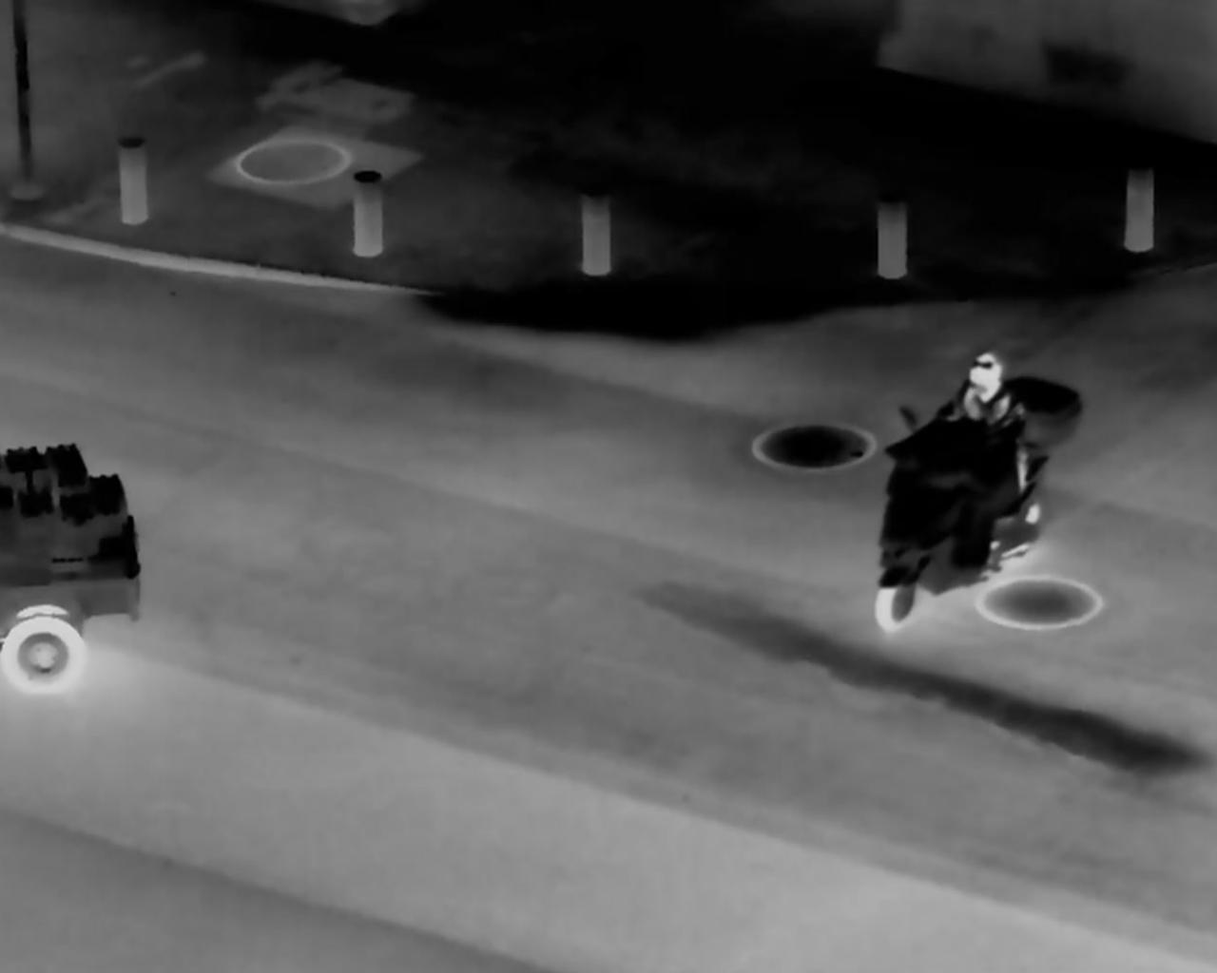person: (929, 343, 1031, 516)
